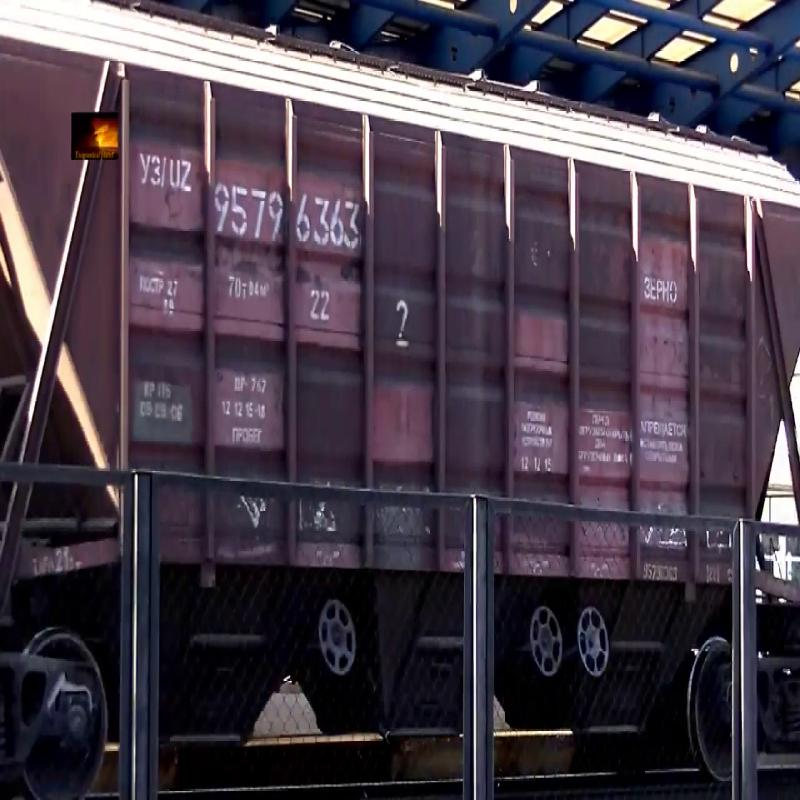train: (16, 3, 798, 775)
